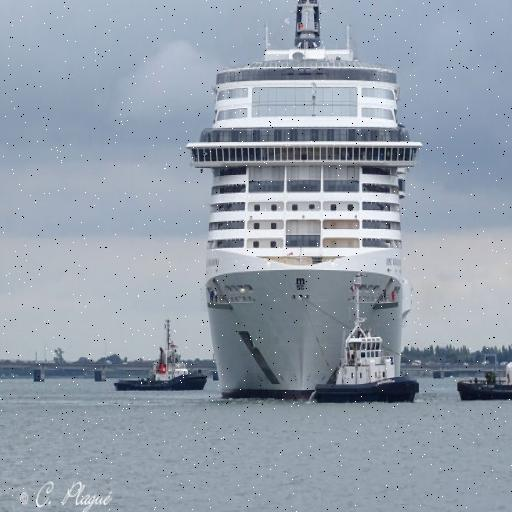cruises: (179, 1, 439, 413)
